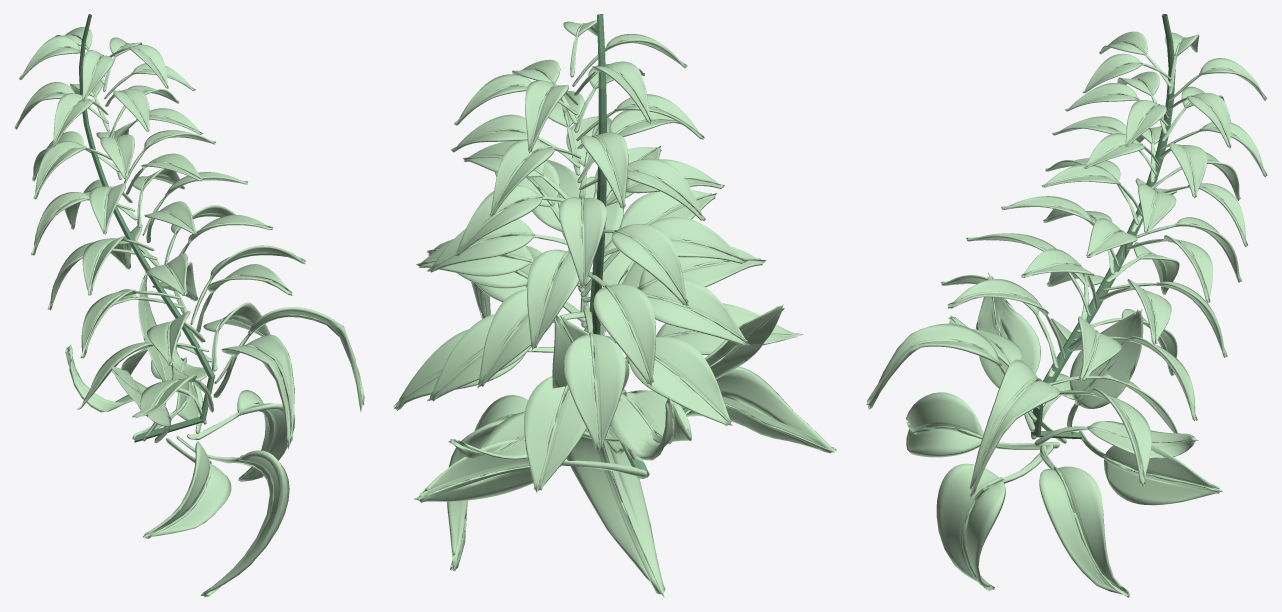
File: plant.fbx
3 renders of one model, left to right at view 1: azimuth 30°, elevation 25°; view 2: azimuth 150°, elevation 25°; view 3: azimuth 270°, elevation 25°, orthographic. The views are drawn at different scales.
Visible parts, largest first — view 1: Leaf.003, Circle.004; view 2: Leaf.003, Circle.004; view 3: Leaf.003, Circle.004.
Part boxes in pixels (<box>): Leaf.003: <box>14,27,364,597</box>; Circle.004: <box>79,14,214,442</box>; Leaf.003: <box>393,20,836,597</box>; Circle.004: <box>589,14,649,478</box>; Leaf.003: <box>866,31,1267,597</box>; Circle.004: <box>1031,14,1175,439</box>.
Bounding box in the file's own units: 93.95 × 188 × 122.
